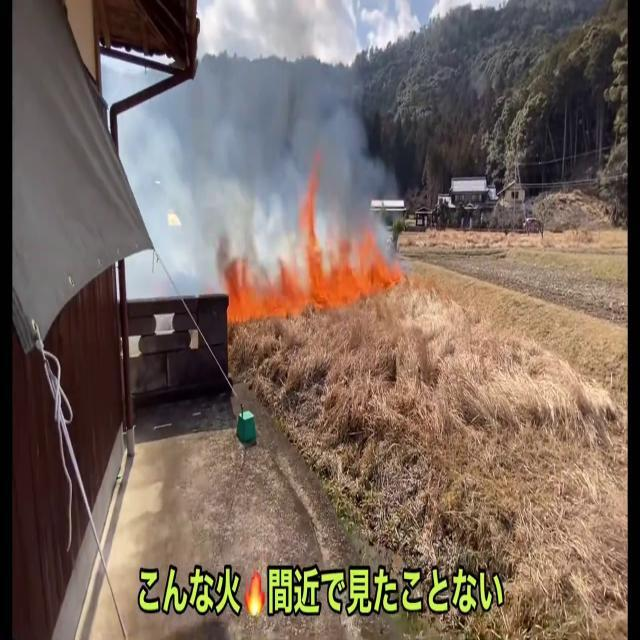Fire: (231, 184, 401, 316)
Smoke: (171, 0, 358, 261)
